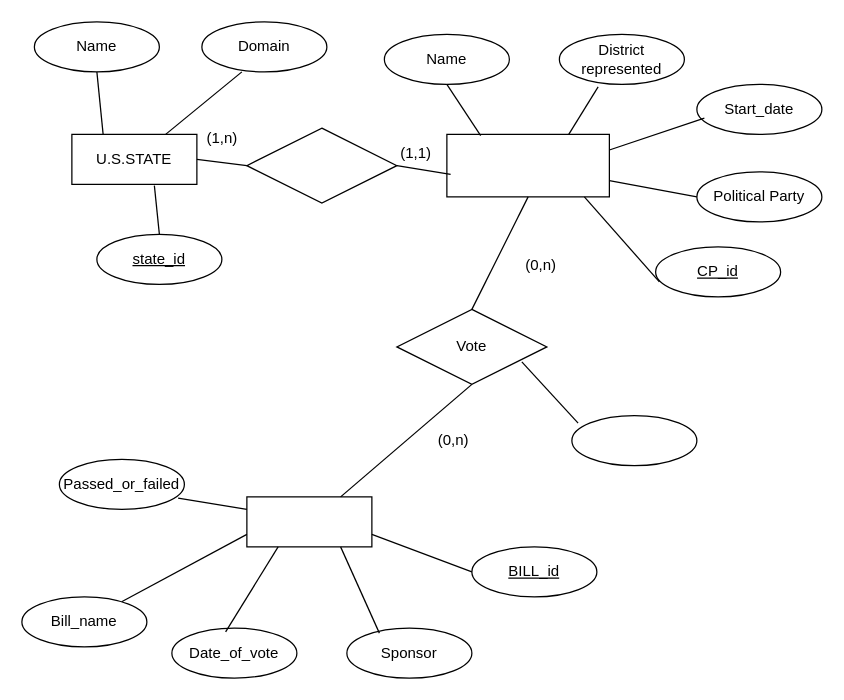
The diagram is 844 pixels wide and 700 high, and some of its shapes have lost their labels. Each missing label, with the centre of its shape:
"BILL" goes at (309,521).
"CONGRESS_PERSON" goes at (527,165).
"Has" goes at (321,165).
"Vote_info" goes at (634,440).
